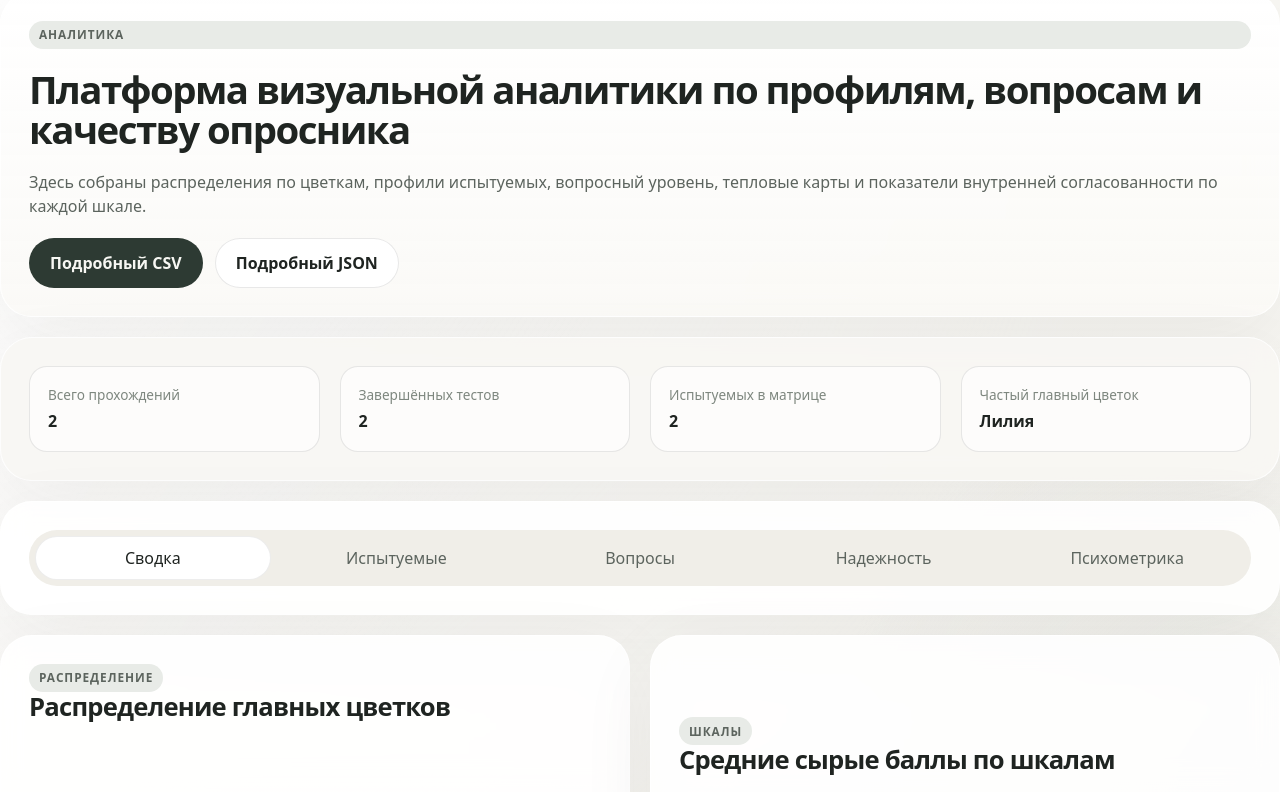
AdminAnalyticsDashboard › opens detailed respondent view and renders raw and z charts
Click the button "Испытуемые".
click(396, 558)  # box [279,536,514,580]
(page scrolled)
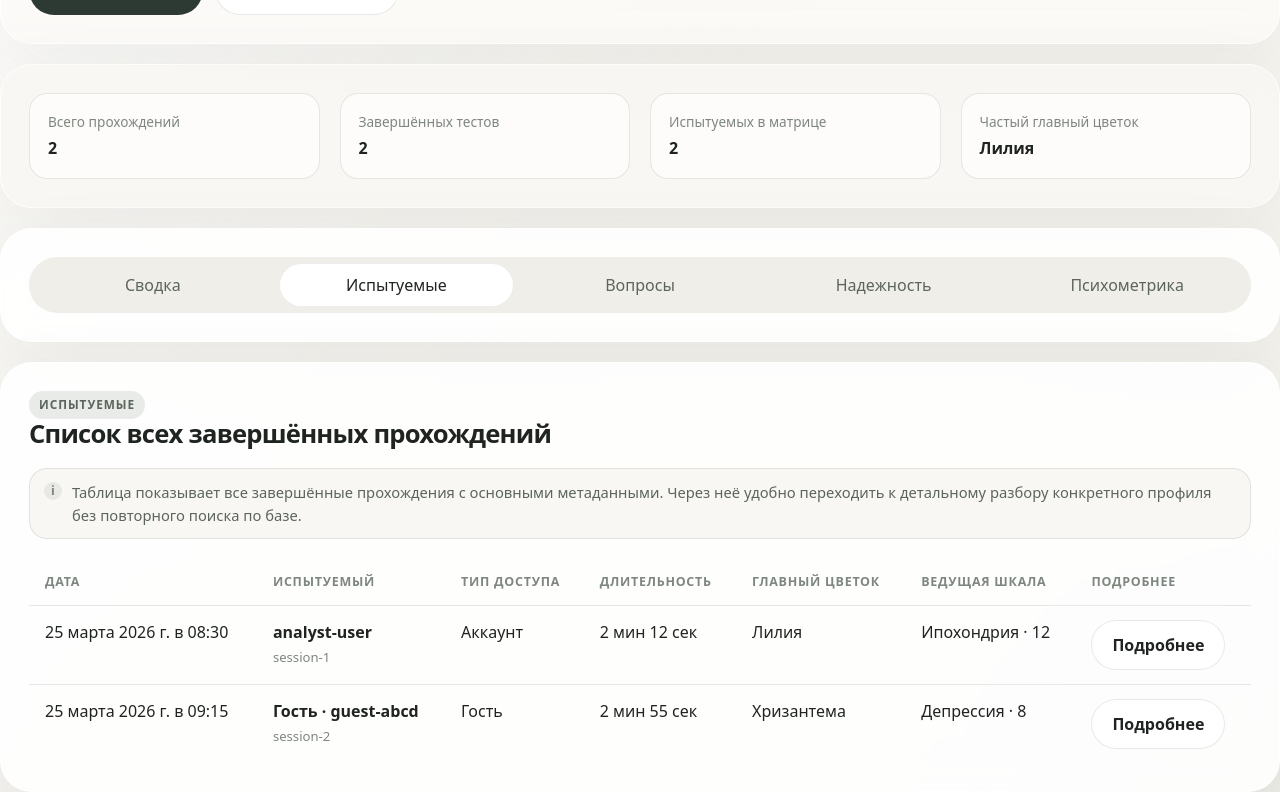
Click the button "Подробнее" in the row of "25 марта 2026 г. в 08:30".
click(1158, 645)  # box [1091,620,1225,670]
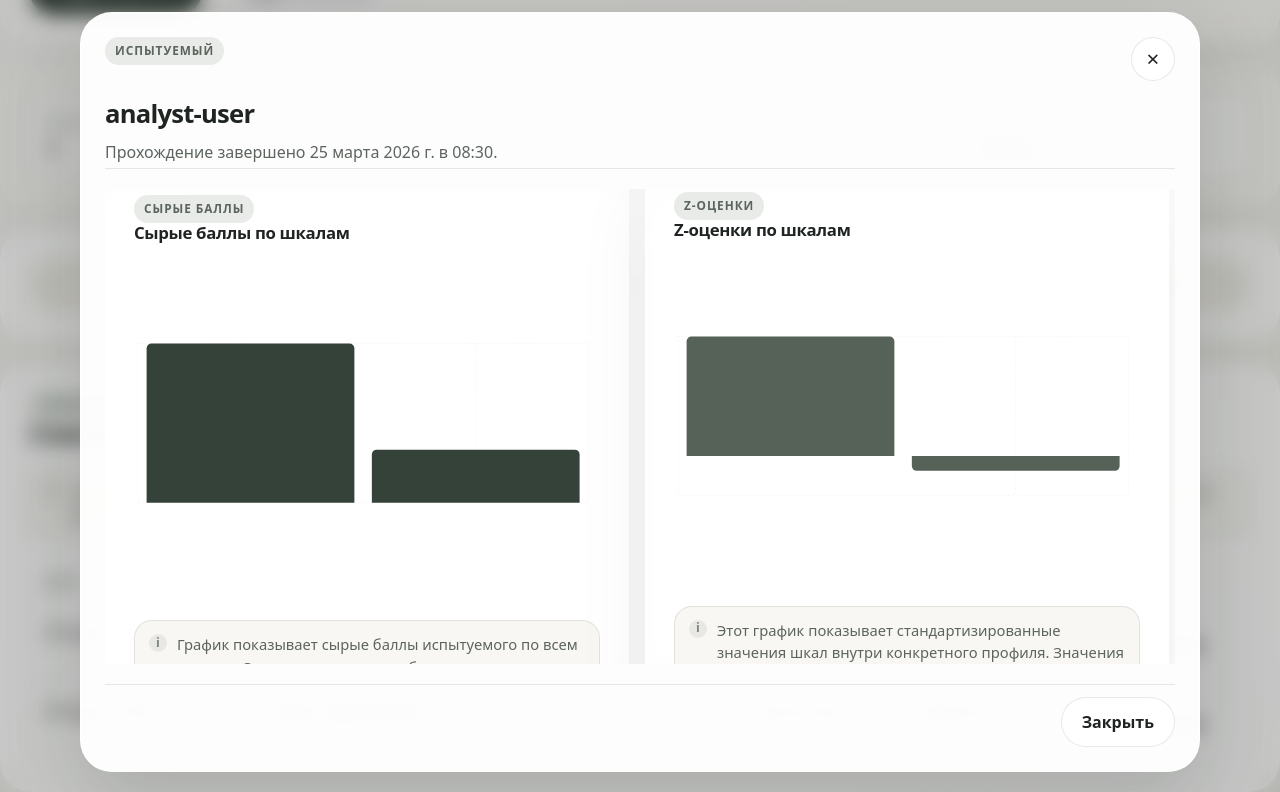
Check: the heading "Сырые баллы по шкалам" is shown, box [134,223,350,244]
Check: the heading "Z-оценки по шкалам" is shown, box [674,220,850,240]
Check: the icon below "Сырые баллы по шкалам" is shown, box [134,267,600,587]
